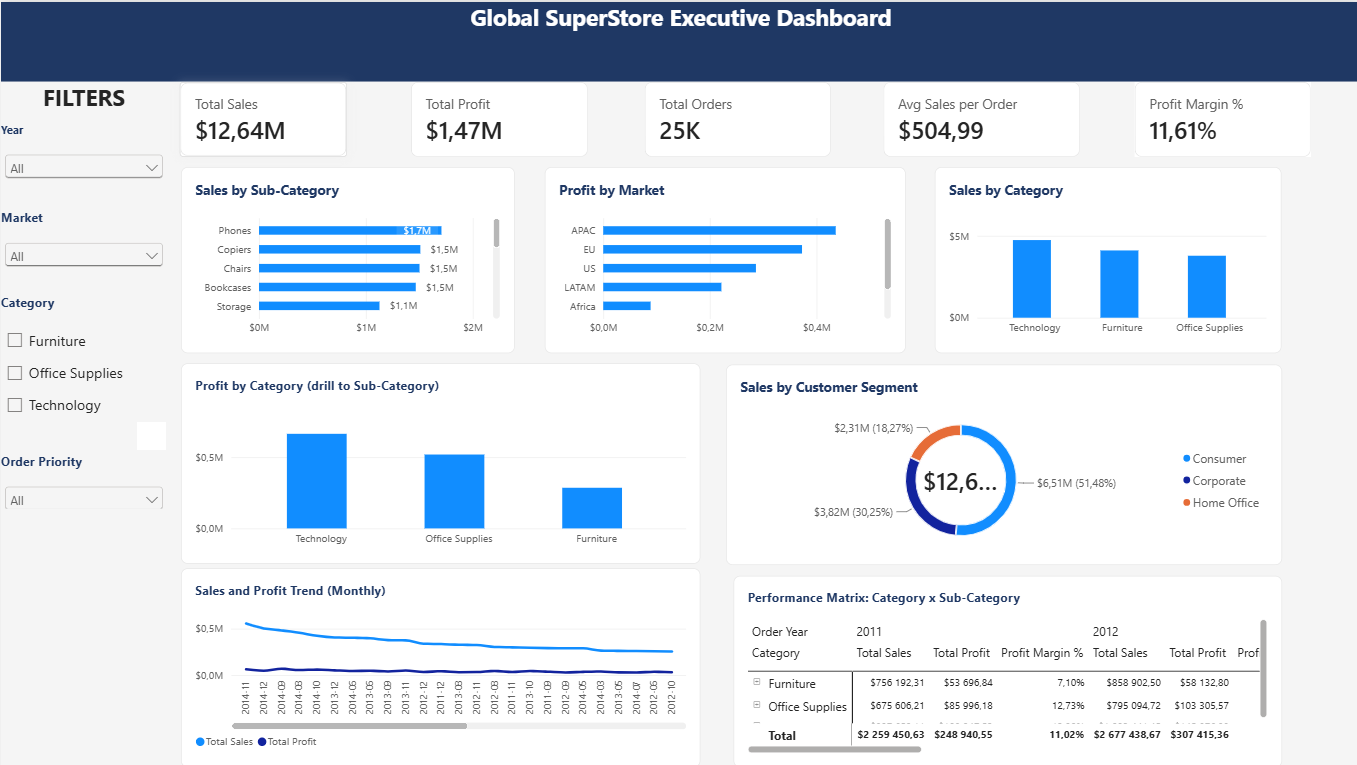

This screenshot's page, from the dashboard's own definition file:
{"tool":"powerbi","page":{"name":"Page 1","canvas":[1600,900],"ordinal":0},"visuals":[{"type":"textbox","title":"Global SuperStore Executive Dashboard","box":[0,0,1600.3,93.4],"z":0},{"type":"textbox","box":[0,93.4,195.4,47.6],"z":1000},{"type":"cardVisual","fields":{"Data":["Raw Data.Total Sales"]},"box":[210.7,93.4,197.1,88.3],"z":2000},{"type":"cardVisual","fields":{"Data":["Raw Data.Total Profit"]},"box":[482.5,93.4,209,88.3],"z":3000},{"type":"cardVisual","fields":{"Data":["Raw Data.Total Orders"]},"box":[757.7,93.4,219.2,88.3],"z":4000},{"type":"cardVisual","fields":{"Data":["Raw Data.Avg Sales per Order"]},"box":[1038,93.4,231,88.3],"z":5000},{"type":"cardVisual","fields":{"Data":["Raw Data.Profit Margin %"]},"box":[1333.6,93.4,207.3,88.3],"z":6000},{"type":"clusteredBarChart","title":"Sales by Sub-Category","fields":{"Category":["Raw Data.Sub-Category"],"Y":["Raw Data.Total Sales"]},"box":[212.4,193.7,392.4,219.2],"z":7000},{"type":"clusteredBarChart","title":"Profit by Market","fields":{"Category":["Raw Data.Market"],"Y":["Raw Data.Total Profit"]},"box":[640.5,193.7,424.7,219.2],"z":8000},{"type":"clusteredColumnChart","title":"Sales by Category","fields":{"Category":["Raw Data.Category"],"Y":["Raw Data.Total Sales"]},"box":[1099.2,193.7,407.7,219.2],"z":9000},{"type":"clusteredColumnChart","title":"Profit by Category (drill to Sub-Category)","fields":{"Category":["Raw Data.Category","Raw Data.Sub-Category"],"Y":["Raw Data.Total Profit"]},"box":[212.4,424.7,611.6,236.1],"z":10000},{"type":"donutChart","title":"Sales by Customer Segment","fields":{"Category":["Raw Data.Segment"],"Y":["Raw Data.Total Sales"]},"box":[852.8,426.4,654.1,236.1],"z":11000},{"type":"pivotTable","title":"Performance Matrix: Category x Sub-Category","fields":{"Columns":["Raw Data.Order Year"],"Rows":["Raw Data.Category","Raw Data.Sub-Category"],"Values":["Raw Data.Total Sales","Raw Data.Total Profit","Raw Data.Profit Margin %"]},"box":[861.3,674.5,645.6,226],"z":12000},{"type":"lineChart","title":"Sales and Profit Trend (Monthly)","fields":{"Category":["Raw Data.Order Year-Month"],"Y":["Raw Data.Total Sales","Raw Data.Total Profit"]},"box":[212.4,666,611.6,234.4],"z":13000},{"type":"slicer","title":"Year","fields":{"Values":["Raw Data.Order Year"]},"box":[0,141,195.4,88.3],"z":14000},{"type":"slicer","title":"Market","fields":{"Values":["Raw Data.Market"]},"box":[0,242.9,195.4,86.6],"z":15000},{"type":"slicer","title":"Category","fields":{"Values":["Raw Data.Category"]},"box":[0,343.2,195.4,159.7],"z":16000},{"type":"slicer","title":"Order Priority","fields":{"Values":["Raw Data.Order Priority"]},"box":[0,530.1,195.4,66.3],"z":16001}]}

Visuals, with their boxes in screenshot pixels (x1, y1, x2, y2), scaled from the page's 1600x900 canvas onto the 1357x765 screenshot:
"Global SuperStore Executive Dashboard" textbox: locate(0, 0, 1356, 79)
textbox: locate(0, 79, 166, 120)
cardVisual - Raw Data.Total Sales: locate(179, 79, 346, 154)
cardVisual - Raw Data.Total Profit: locate(409, 79, 586, 154)
cardVisual - Raw Data.Total Orders: locate(643, 79, 829, 154)
cardVisual - Raw Data.Avg Sales per Order: locate(880, 79, 1076, 154)
cardVisual - Raw Data.Profit Margin %: locate(1131, 79, 1307, 154)
"Sales by Sub-Category" clusteredBarChart: locate(180, 165, 513, 351)
"Profit by Market" clusteredBarChart: locate(543, 165, 903, 351)
"Sales by Category" clusteredColumnChart: locate(932, 165, 1278, 351)
"Profit by Category (drill to Sub-Category)" clusteredColumnChart: locate(180, 361, 699, 562)
"Sales by Customer Segment" donutChart: locate(723, 362, 1278, 563)
"Performance Matrix: Category x Sub-Category" pivotTable: locate(730, 573, 1278, 764)
"Sales and Profit Trend (Monthly)" lineChart: locate(180, 566, 699, 764)
"Year" slicer: locate(0, 120, 166, 195)
"Market" slicer: locate(0, 206, 166, 280)
"Category" slicer: locate(0, 292, 166, 427)
"Order Priority" slicer: locate(0, 451, 166, 507)
